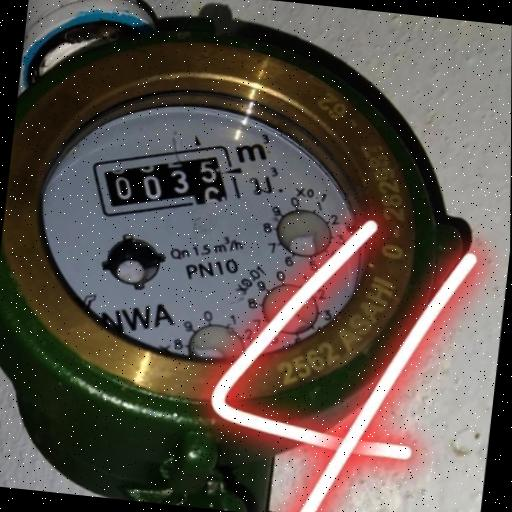0: (126, 159, 171, 208), (100, 164, 142, 211)
3: (155, 155, 197, 204)
5: (179, 149, 231, 210)
border_water_meter_number: (84, 126, 249, 235)
